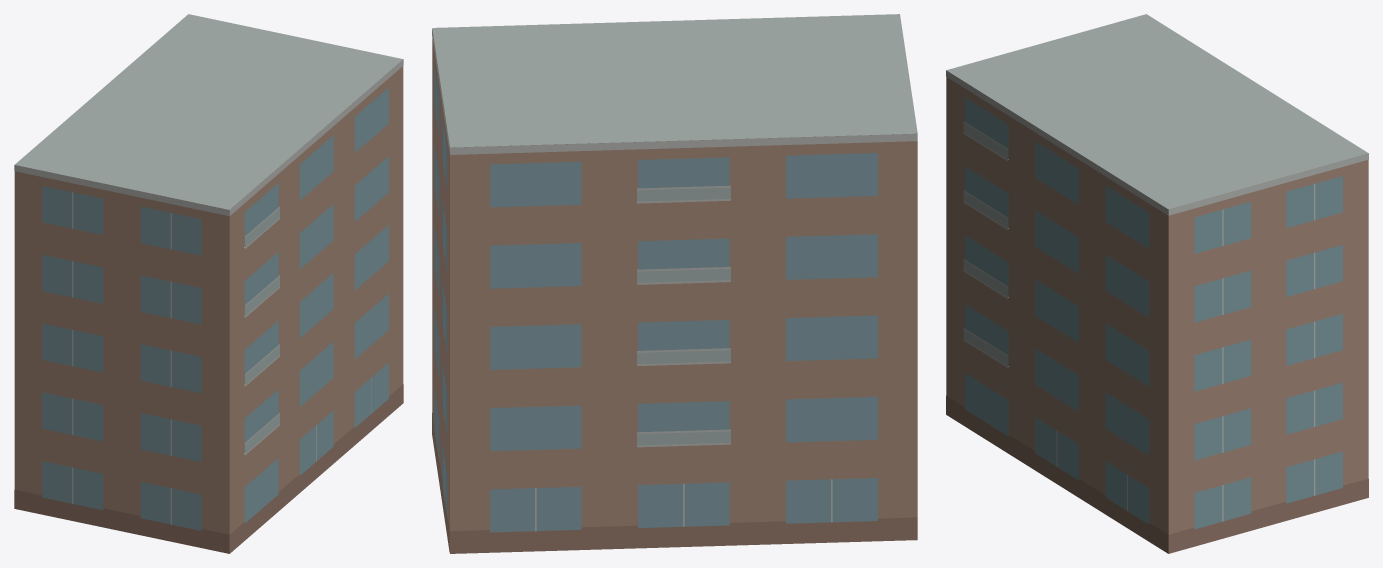
The model's file is survey-upis-32883431.glb.
3 views of the same model, side by side, from view 1: azimuth 30°, elevation 25°; view 2: azimuth 150°, elevation 25°; view 3: azimuth 270°, elevation 25° (orthographic). The views are drawn at different scales.
Parts seen in each view (by area): view 1: survey-upis-32883431.tmp; view 2: survey-upis-32883431.tmp; view 3: survey-upis-32883431.tmp.
Boxes of the visible parts, left/top/right/bottom form: survey-upis-32883431.tmp: left=14, top=14, right=403, bottom=553; survey-upis-32883431.tmp: left=432, top=14, right=917, bottom=553; survey-upis-32883431.tmp: left=946, top=14, right=1368, bottom=553.
Bounding box in the file's own units: 16.2 × 13.3 × 14.8.
